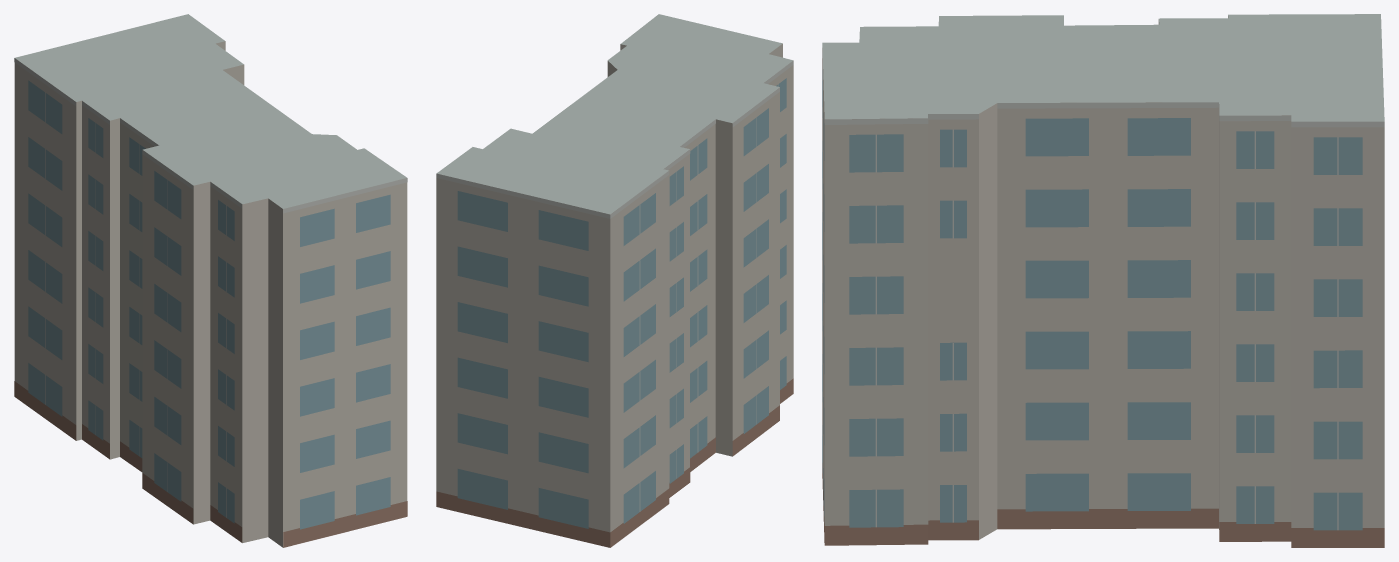
File: survey-upis-32961291.glb
The picture shows the model from 3 angles, left to right: view 1: azimuth 30°, elevation 25°; view 2: azimuth 150°, elevation 25°; view 3: azimuth 270°, elevation 25°; orthographic projection. The views are drawn at different scales.
Visible parts, largest first — view 1: survey-upis-32961291.tmp; view 2: survey-upis-32961291.tmp; view 3: survey-upis-32961291.tmp.
Part boxes in pixels (box(x1,y1,x2,y2)): survey-upis-32961291.tmp: box(14, 14, 407, 547); survey-upis-32961291.tmp: box(436, 14, 793, 547); survey-upis-32961291.tmp: box(822, 14, 1384, 547).
Size of the model in its own units: 10.01 by 18.45 by 22.07.
